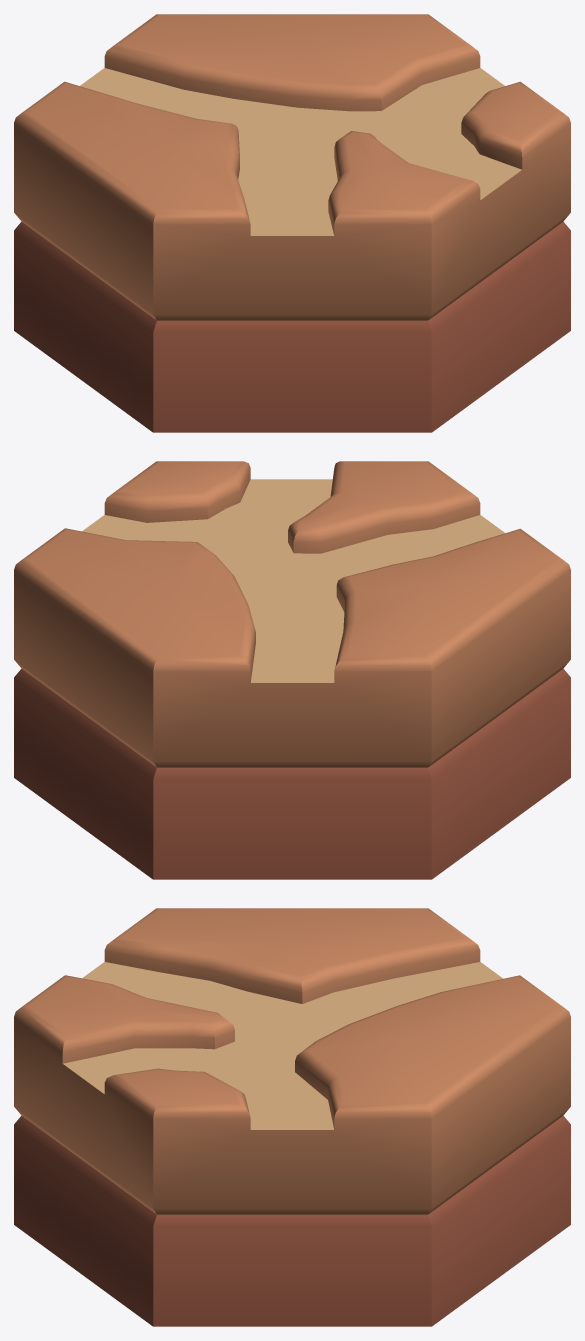
The model's file is hex_rock_roadI_detail.glb.
3 renders of one model, top to bottom at view 1: azimuth 30°, elevation 25°; view 2: azimuth 150°, elevation 25°; view 3: azimuth 270°, elevation 25°, orthographic.
Parts seen in each view (by area): view 1: hex_rock_roadI_detail; view 2: hex_rock_roadI_detail; view 3: hex_rock_roadI_detail.
Part boxes in pixels (x1,y1,x2,y2): hex_rock_roadI_detail: (14,14,570,432); hex_rock_roadI_detail: (14,461,570,879); hex_rock_roadI_detail: (14,908,570,1326).
Bounding box in the file's own units: 3.82 × 1.91 × 4.41.
